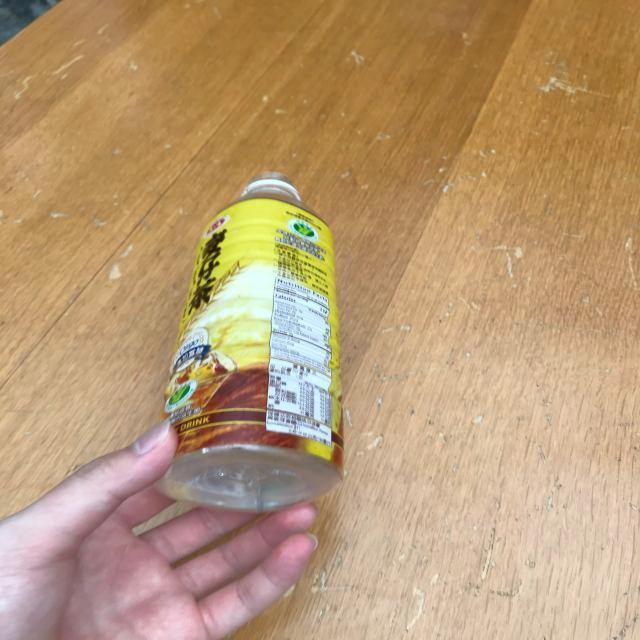bottle: (152, 172, 345, 513)
